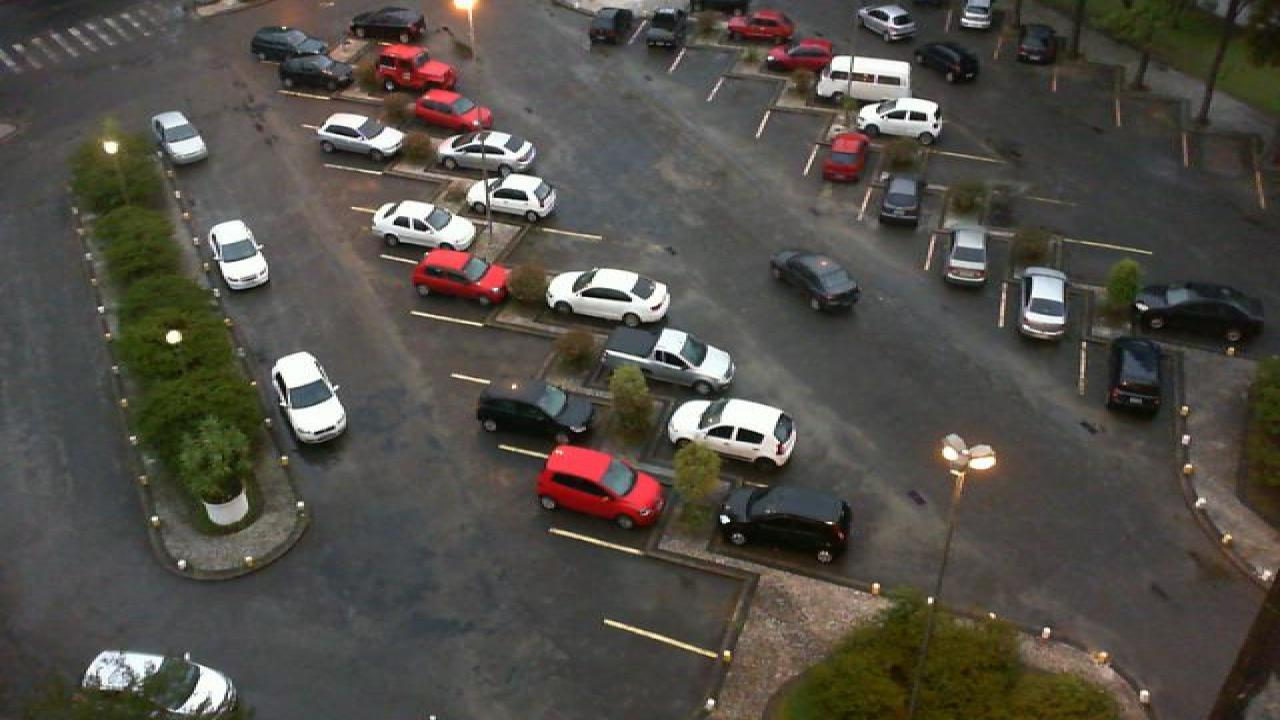Car: (712, 482, 856, 564), (78, 650, 242, 720), (536, 444, 666, 531), (600, 323, 738, 396), (666, 396, 798, 470), (474, 377, 600, 449), (1132, 280, 1268, 346), (268, 351, 352, 447), (544, 266, 674, 328), (410, 249, 514, 307), (770, 250, 864, 314), (370, 199, 480, 252), (1100, 338, 1168, 419), (814, 54, 914, 104), (314, 112, 408, 165), (432, 130, 540, 176), (466, 172, 558, 224), (206, 220, 272, 292), (1016, 267, 1074, 341), (856, 98, 944, 144), (376, 42, 458, 91), (412, 88, 494, 132), (148, 110, 210, 164), (274, 54, 356, 94), (248, 26, 332, 65), (348, 6, 430, 44), (942, 227, 992, 289), (910, 41, 980, 84), (874, 174, 926, 230), (818, 130, 870, 184), (766, 36, 836, 75), (854, 2, 920, 43), (724, 8, 794, 40), (1014, 22, 1060, 66), (636, 8, 686, 48), (588, 8, 636, 47), (956, 0, 998, 30), (688, 0, 726, 29)
